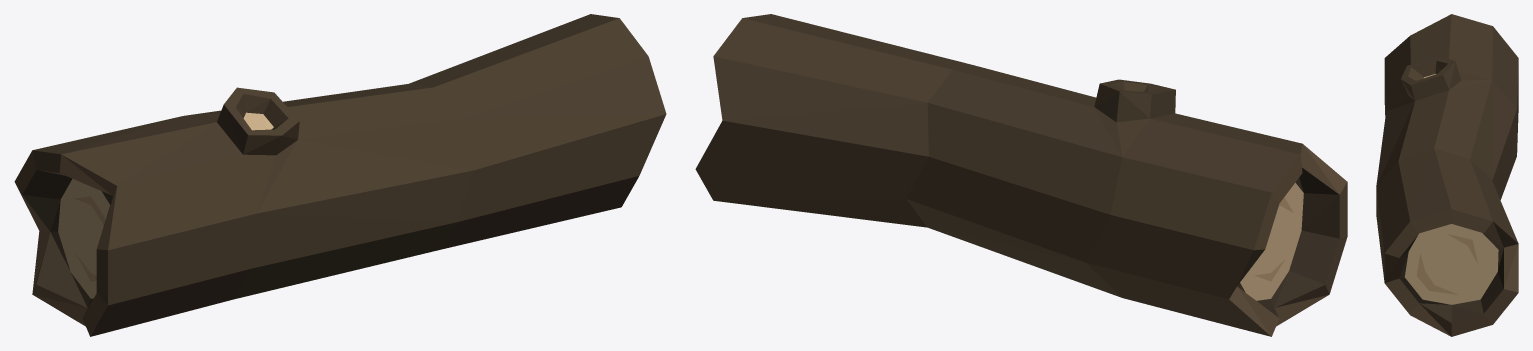
The model's file is SM_Env_TreeLog_01.fbx.
3 views of the same model, side by side, from view 1: azimuth 30°, elevation 25°; view 2: azimuth 150°, elevation 25°; view 3: azimuth 270°, elevation 25° (orthographic). The views are drawn at different scales.
Visible parts, largest first — view 1: SM_Env_TreeLog_01; view 2: SM_Env_TreeLog_01; view 3: SM_Env_TreeLog_01.
Boxes of the visible parts, bbox=[...] form: SM_Env_TreeLog_01: bbox=[14, 14, 666, 336]; SM_Env_TreeLog_01: bbox=[695, 14, 1347, 336]; SM_Env_TreeLog_01: bbox=[1376, 14, 1518, 336].
Size of the model in its own units: 0.0257 by 0.00875 by 0.00789.
Materials: 1 (1 with a texture image).
